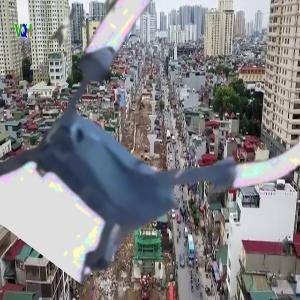drone: (2, 4, 297, 299)
